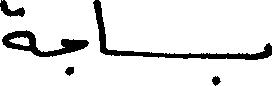X: (0, 0, 34, 59), (63, 34, 85, 80), (94, 0, 108, 59), (261, 38, 271, 63)
